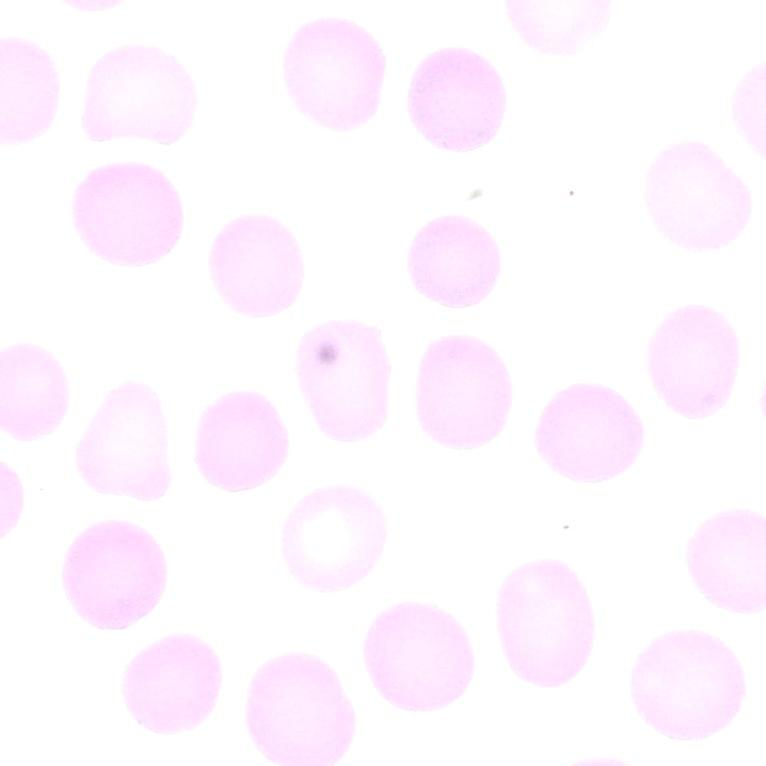Uninfected: (490, 555, 595, 687), (630, 627, 746, 740), (244, 657, 361, 766), (70, 377, 177, 496), (78, 47, 199, 152), (366, 599, 477, 713), (294, 321, 395, 442), (638, 139, 750, 248), (70, 163, 182, 268), (282, 19, 382, 134), (60, 519, 166, 626), (190, 385, 294, 492), (206, 209, 305, 318), (538, 381, 647, 480), (650, 305, 745, 417), (282, 489, 383, 593), (122, 633, 223, 735), (412, 333, 506, 441), (410, 45, 507, 148), (406, 217, 497, 308), (688, 501, 766, 605), (0, 339, 69, 441)
